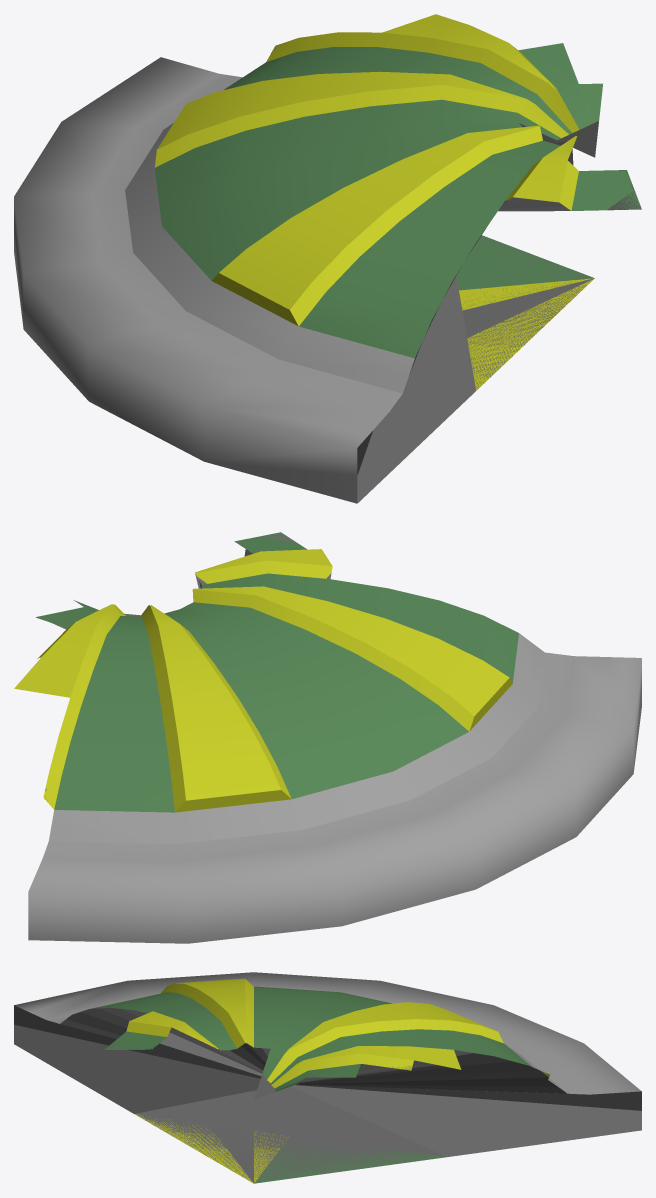
File: plate2.FBX
3 renders of one model, top to bottom at view 1: azimuth 30°, elevation 25°; view 2: azimuth 150°, elevation 25°; view 3: azimuth 270°, elevation 25°, orthographic. The views are drawn at different scales.
Parts seen in each view (by area): view 1: pasted__pCylinder2; view 2: pasted__pCylinder2; view 3: pasted__pCylinder2.
Part boxes in pixels (<box>): pasted__pCylinder2: <box>14,14,641,503</box>; pasted__pCylinder2: <box>14,532,641,943</box>; pasted__pCylinder2: <box>14,972,641,1183</box>.
Bounding box in the file's own units: 1.47 × 0.4662 × 2.09.
